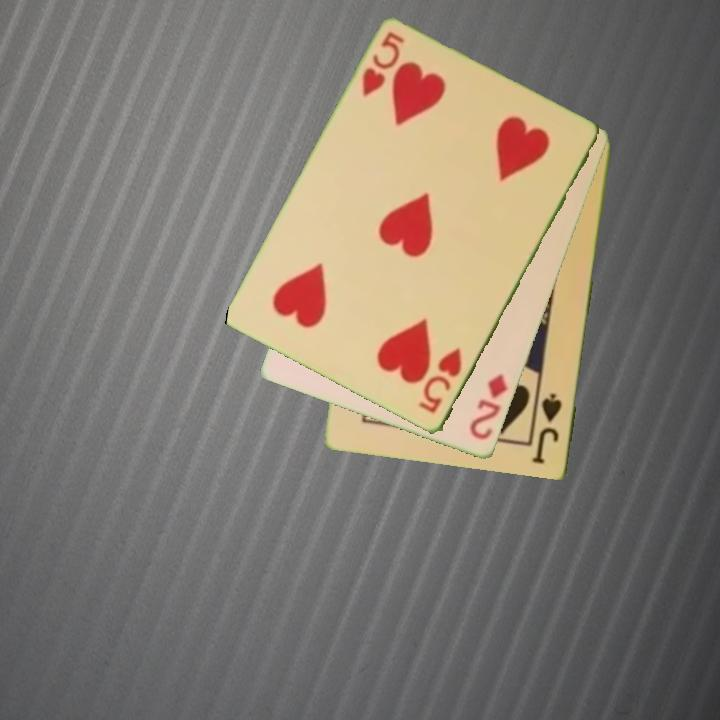2d: (466, 371, 511, 443)
5h: (415, 345, 465, 417), (358, 28, 408, 100)
Js: (532, 390, 565, 467)
